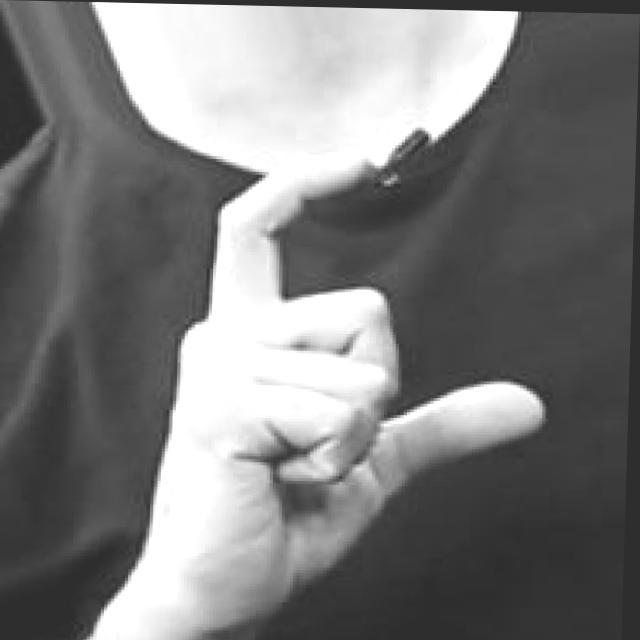C: (142, 150, 553, 640)
